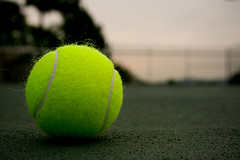tennis ball: (24, 44, 124, 140)
